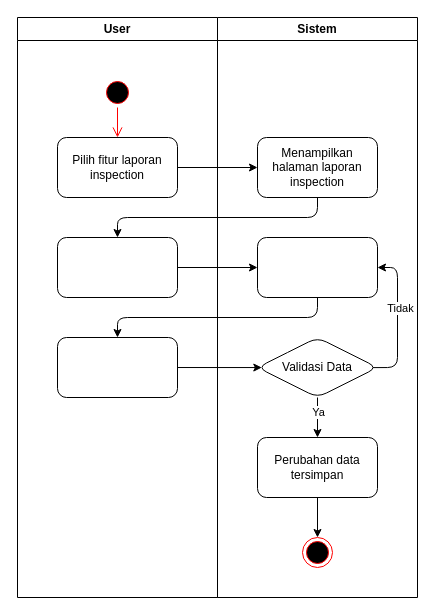
The diagram is 435 pixels wide and 615 high, and some of its shapes have lost their labels. The shapes that lost their labels are listed below. From the top down, each one's centre as x and y in pixels, then its label:
At point 117,267: "Pilih edit (icon pen) pada salah satu data laporan inspection".
At point 317,267: "Menampilkan halaman edit data".
At point 117,367: "Edit data laporan inspection".
